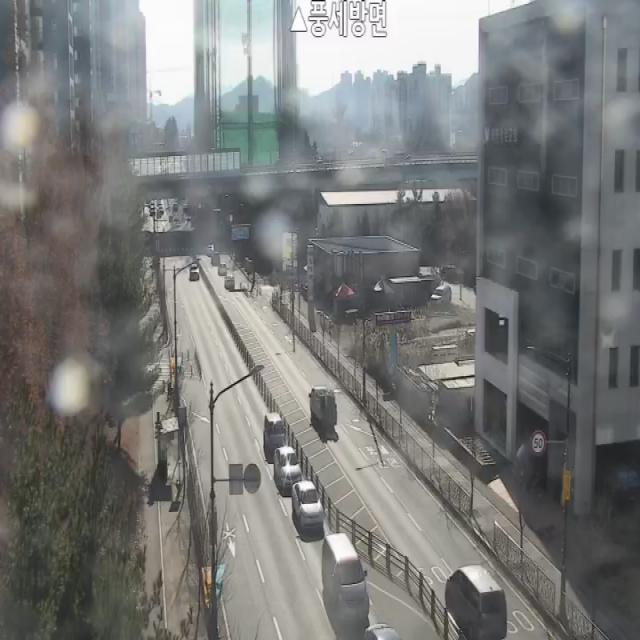Car: (446, 565, 508, 640), (322, 533, 369, 623), (291, 481, 324, 532), (274, 446, 302, 488), (263, 412, 284, 450), (363, 623, 401, 640), (430, 284, 452, 304), (224, 274, 235, 290), (190, 264, 200, 281), (218, 262, 227, 276)
Truck: (308, 385, 339, 444)
